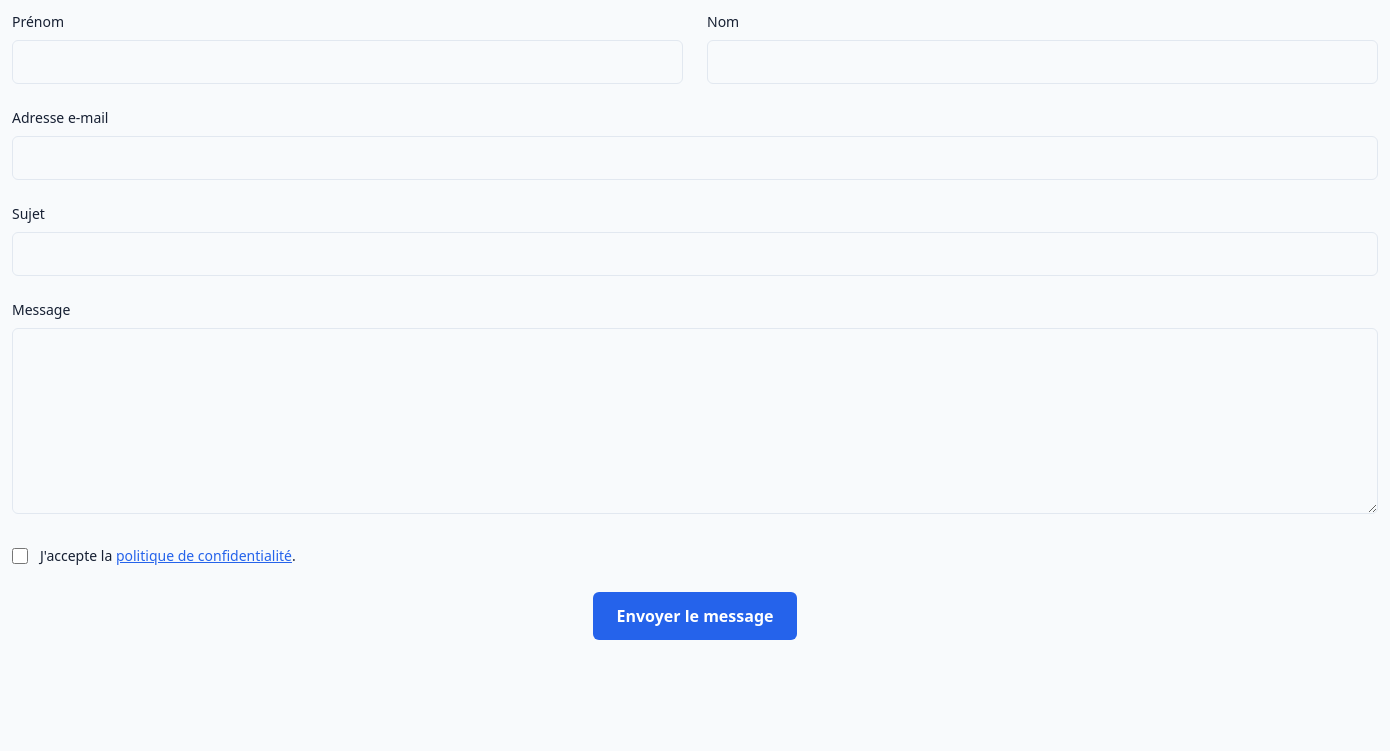
Test case: ContactForm › refuse une soumission vide
This screenshot has width=1390, height=751.
// clic sur "Envoyer" alors que rien n'est rempli.
Click the button "Envoyer le message" at (695, 616), box [592, 592, 798, 640]
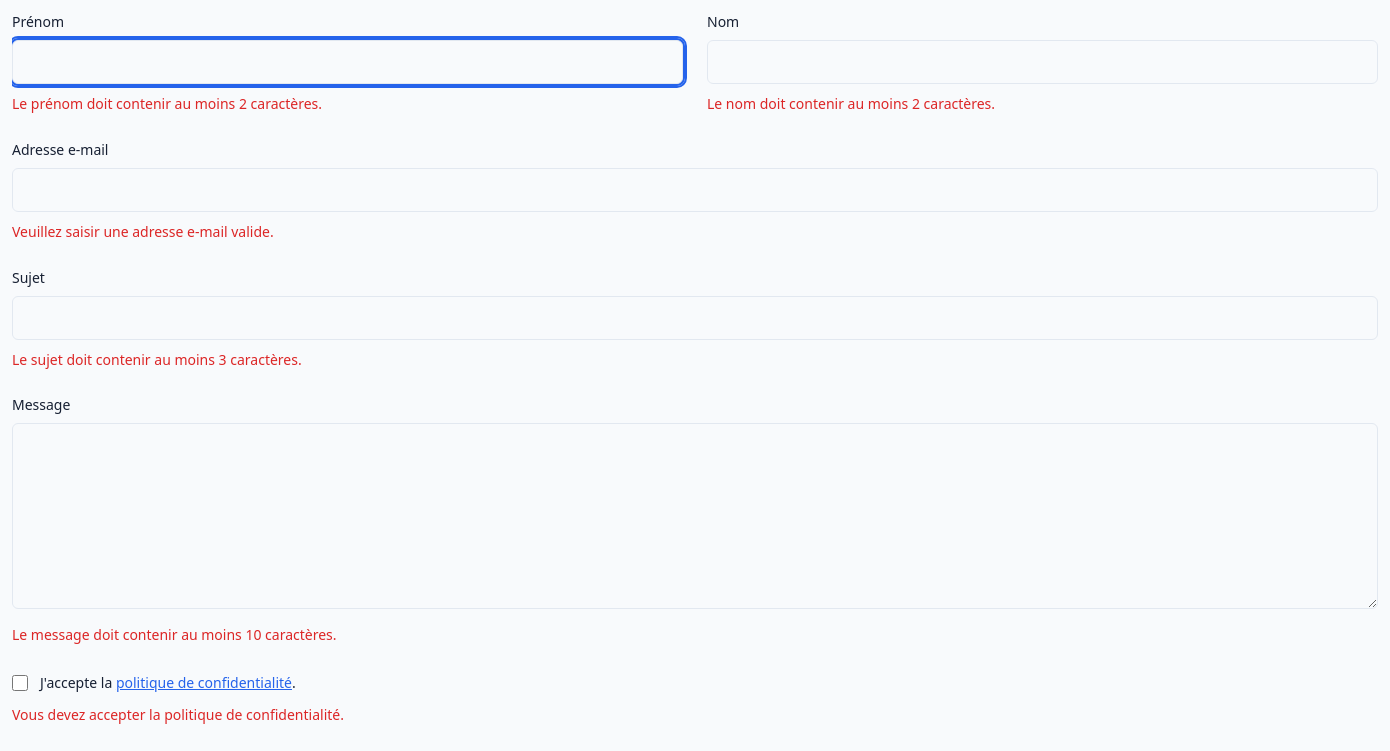
Expected: the text "Le prénom doit contenir au moins 2 caractères." is shown, [12, 94, 322, 113]
